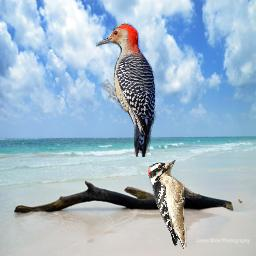Woodpecker: (96, 23, 156, 157), (147, 160, 187, 249)
